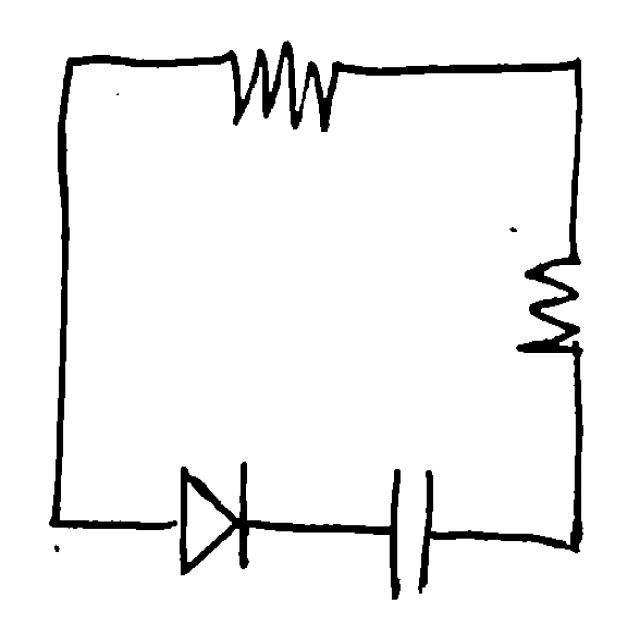capacitor: (372, 448, 449, 612)
resistor: (211, 36, 367, 140), (508, 229, 598, 387)
